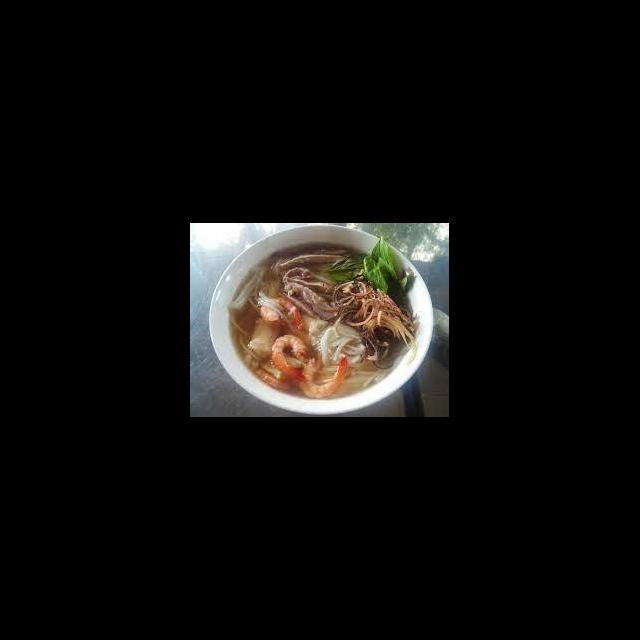bun: (312, 319, 388, 392), (226, 264, 288, 316)
bun ca: (212, 244, 432, 415)
ca: (248, 310, 284, 361), (282, 313, 330, 343)
tom: (298, 350, 352, 401), (270, 332, 312, 385), (256, 293, 306, 332)
